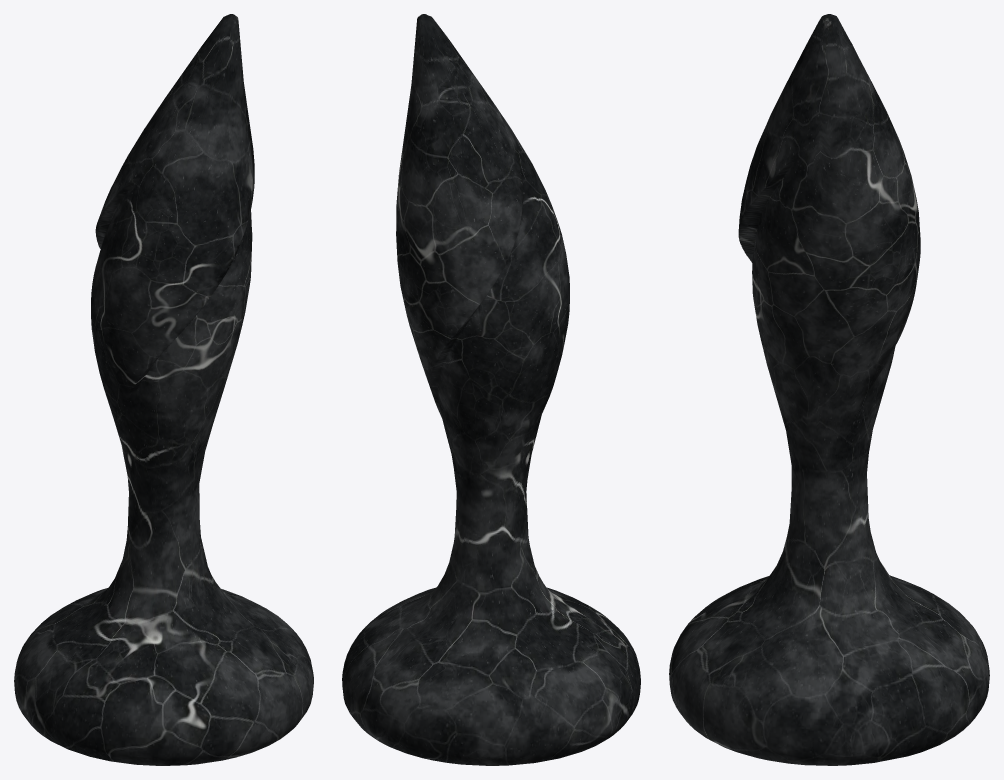
The model's file is queen-black.glb.
3 renders of one model, left to right at view 1: azimuth 30°, elevation 25°; view 2: azimuth 150°, elevation 25°; view 3: azimuth 270°, elevation 25°, orthographic. The views are drawn at different scales.
Parts seen in each view (by area): view 1: Serpentina_queen_black; view 2: Serpentina_queen_black; view 3: Serpentina_queen_black.
Part boxes in pixels (x1,y1,x2,y2): Serpentina_queen_black: (14, 14, 313, 765); Serpentina_queen_black: (342, 14, 640, 765); Serpentina_queen_black: (669, 14, 989, 765).
Bounding box in the file's own units: 0.6489 × 1.62 × 0.6493.
Materials: 1 (1 with a texture image).
